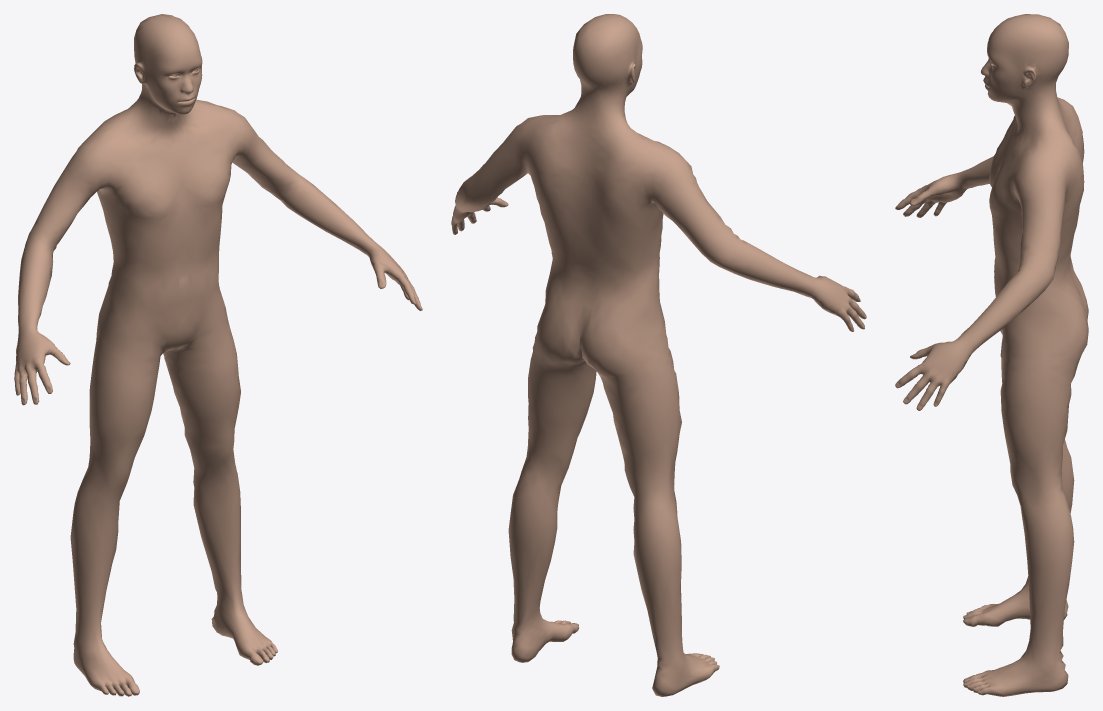
File: human_male_base.glb
3 renders of one model, left to right at view 1: azimuth 30°, elevation 25°; view 2: azimuth 150°, elevation 25°; view 3: azimuth 270°, elevation 25°, orthographic.
Parts seen in each view (by area): view 1: human_male_base; view 2: human_male_base; view 3: human_male_base.
Boxes of the visible parts, x1=… form: human_male_base: x1=14, y1=14, x2=422, y2=696; human_male_base: x1=451, y1=14, x2=866, y2=696; human_male_base: x1=895, y1=14, x2=1088, y2=696.
Bounding box in the file's own units: 1.16 × 1.78 × 0.4894.
